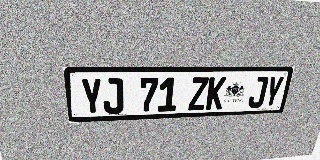1: (158, 77, 178, 112)
7: (139, 78, 159, 113)
J: (102, 78, 123, 114), (247, 76, 269, 108)
K: (205, 77, 227, 110)
Y: (80, 78, 103, 115), (262, 76, 285, 107)
Z: (188, 77, 209, 111)
